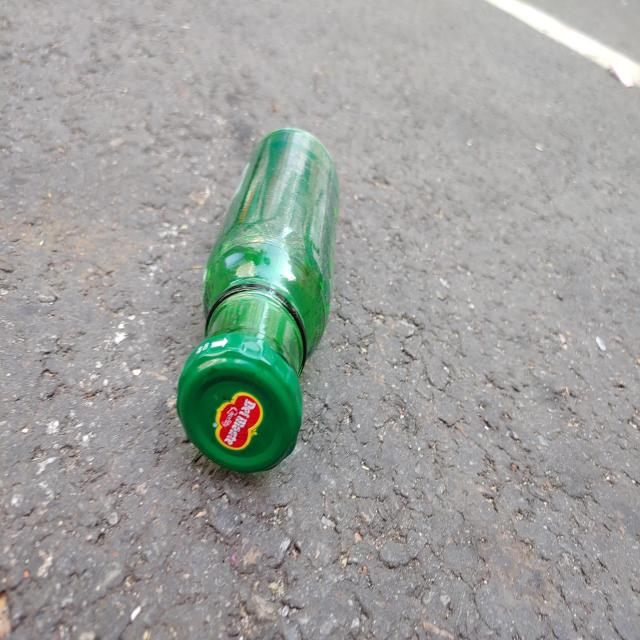glass: (177, 128, 339, 472)
